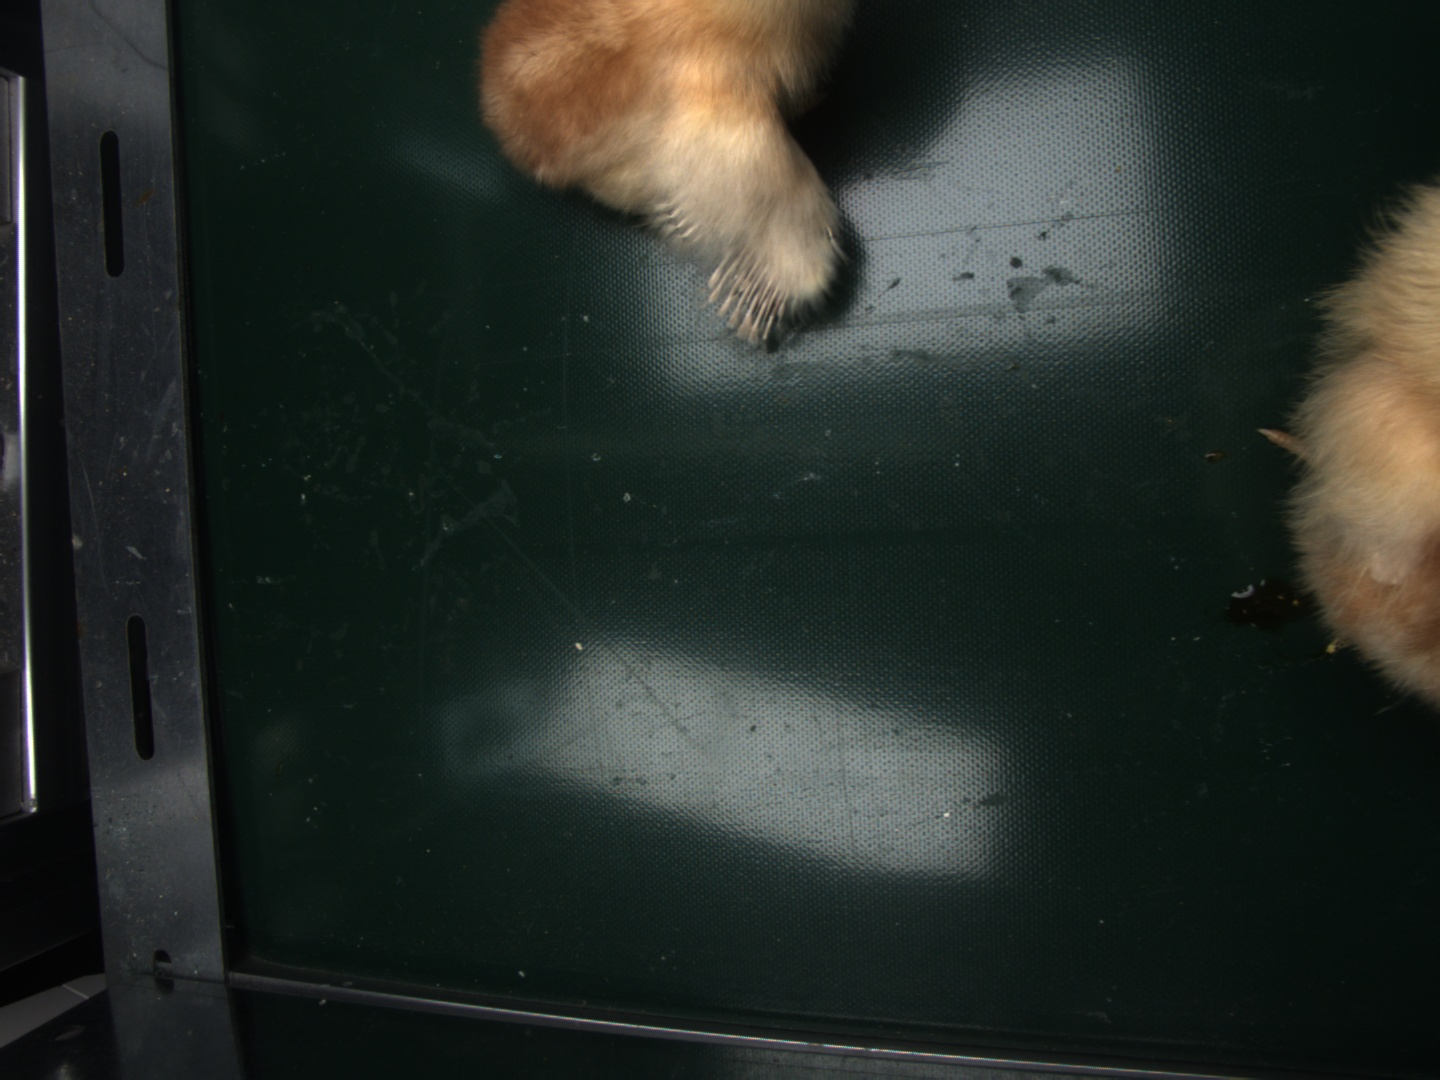female: (704, 253, 788, 349)
